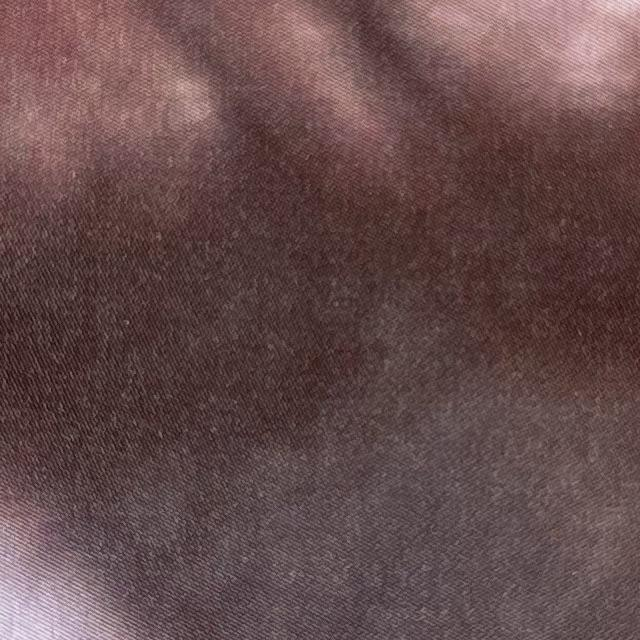eye: (0, 179, 640, 640)
iris: (14, 234, 640, 640)
